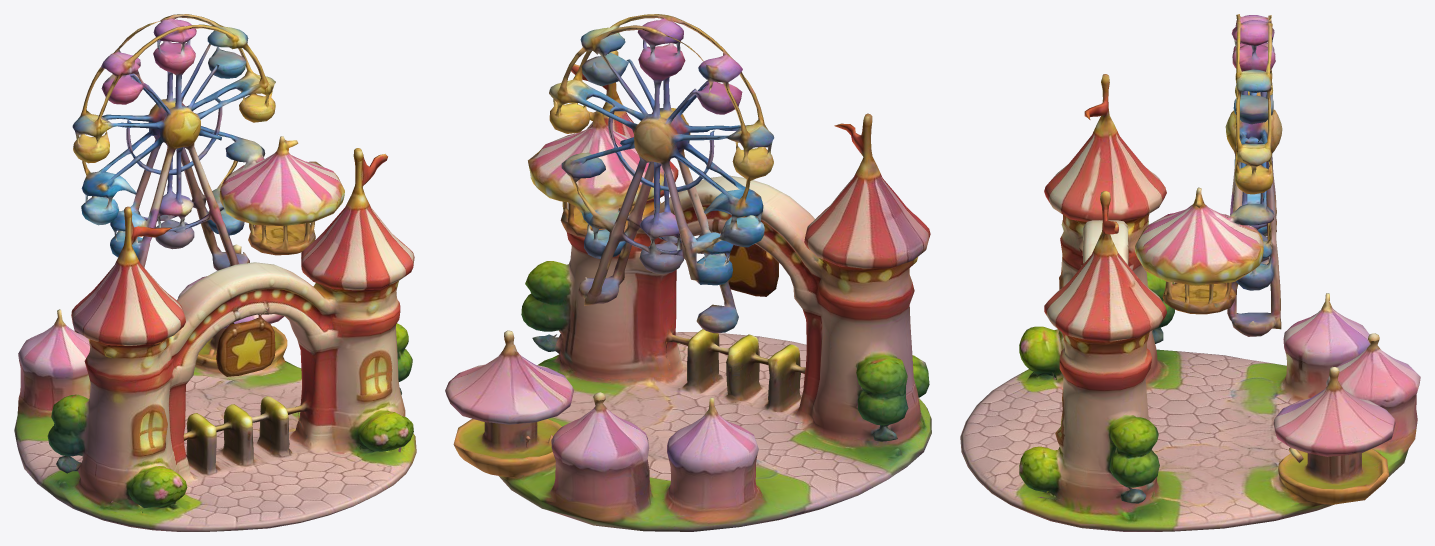
The model's file is 16-amusement-gate.glb.
3 views of the same model, side by side, from view 1: azimuth 30°, elevation 25°; view 2: azimuth 150°, elevation 25°; view 3: azimuth 270°, elevation 25° (orthographic). The views are drawn at different scales.
Visible parts, largest first — view 1: tripo_node_980f2e89-fc8f-4d98-83a5-96491b78a213; view 2: tripo_node_980f2e89-fc8f-4d98-83a5-96491b78a213; view 3: tripo_node_980f2e89-fc8f-4d98-83a5-96491b78a213.
Part boxes in pixels (x1=…): tripo_node_980f2e89-fc8f-4d98-83a5-96491b78a213: x1=14, y1=14, x2=416, y2=531; tripo_node_980f2e89-fc8f-4d98-83a5-96491b78a213: x1=445, y1=14, x2=931, y2=531; tripo_node_980f2e89-fc8f-4d98-83a5-96491b78a213: x1=960, y1=14, x2=1420, y2=531.
Size of the model in its own units: 0.8992 by 0.975 by 0.9596.
Materials: 1 (1 with a texture image).
